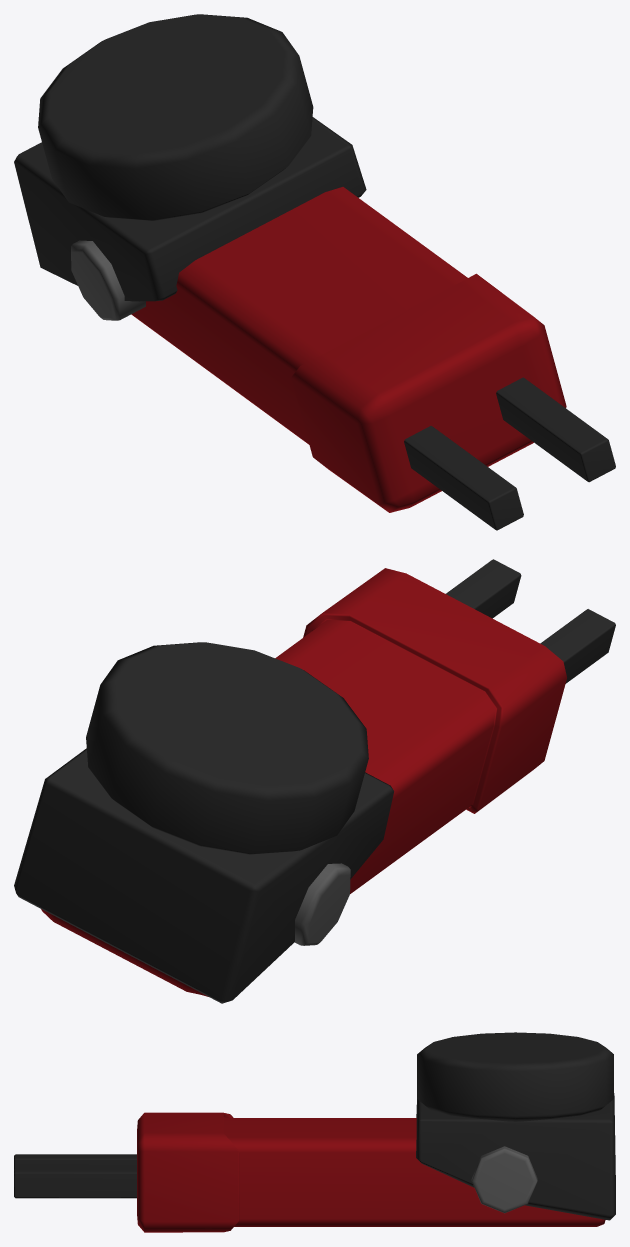
Rendered from Ship_Boos_01_Weapon_R_02.fbx.
The picture shows the model from 3 angles, top to bottom: view 1: azimuth 30°, elevation 25°; view 2: azimuth 150°, elevation 25°; view 3: azimuth 270°, elevation 25°; orthographic projection. The views are drawn at different scales.
Visible parts, largest first — view 1: Ship_Boos_01_Weapon_R_02; view 2: Ship_Boos_01_Weapon_R_02; view 3: Ship_Boos_01_Weapon_R_02.
Boxes of the visible parts, x1,y1,x2,y2 form: Ship_Boos_01_Weapon_R_02: [14, 14, 615, 530]; Ship_Boos_01_Weapon_R_02: [14, 559, 615, 1003]; Ship_Boos_01_Weapon_R_02: [14, 1032, 615, 1232].
Size of the model in its own units: 172 by 155 by 446.
